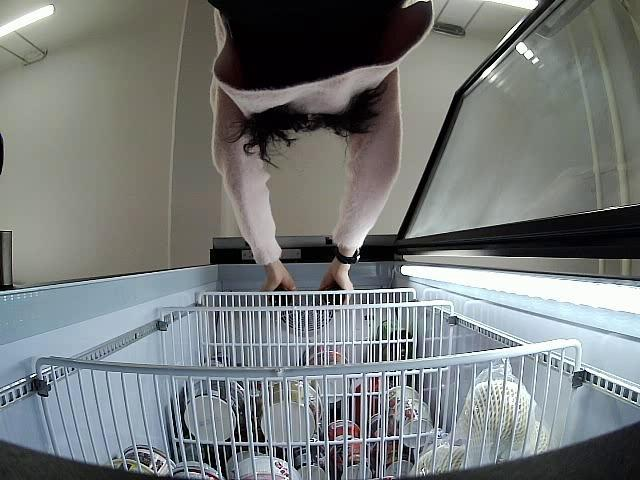17_vita500: (321, 282, 344, 308), (272, 286, 294, 310)
